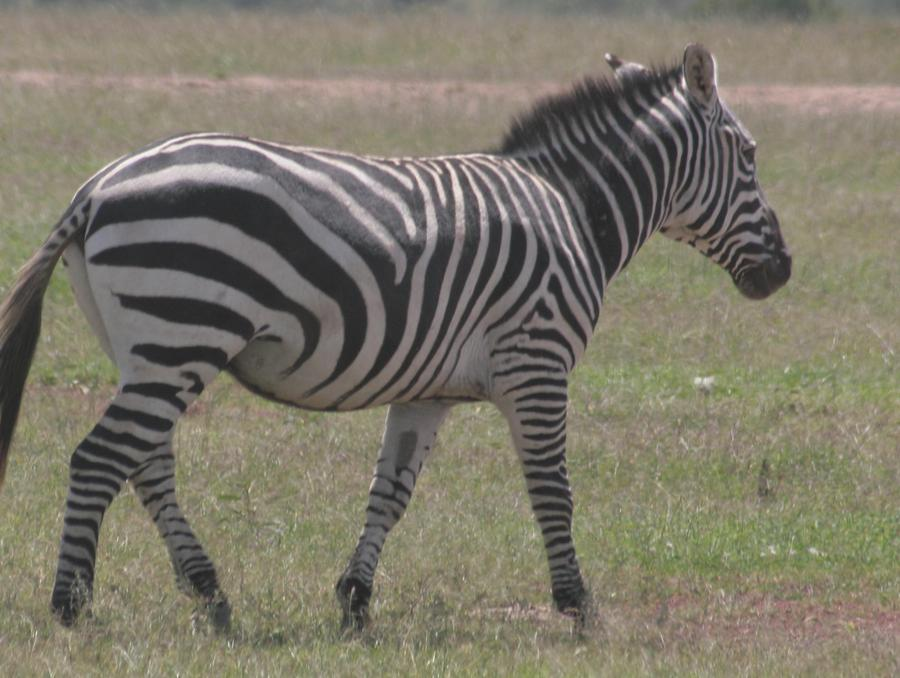zebra_plains: (90, 114, 596, 425)
